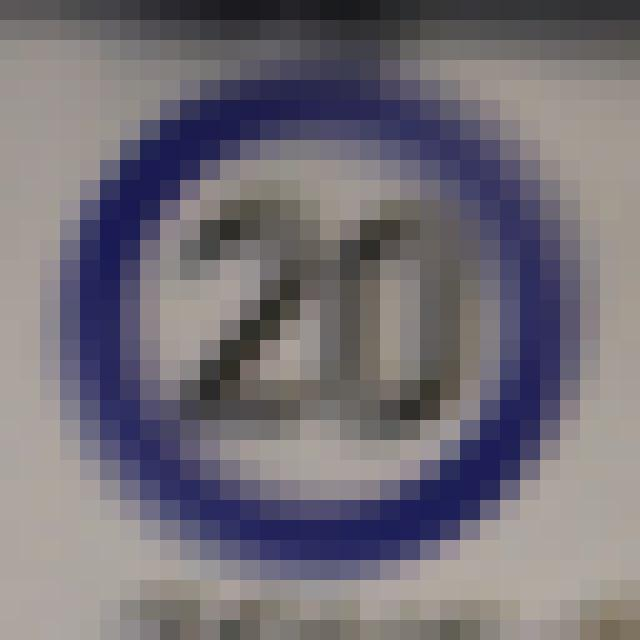SPEED LIMIT 20: (49, 77, 586, 572)
